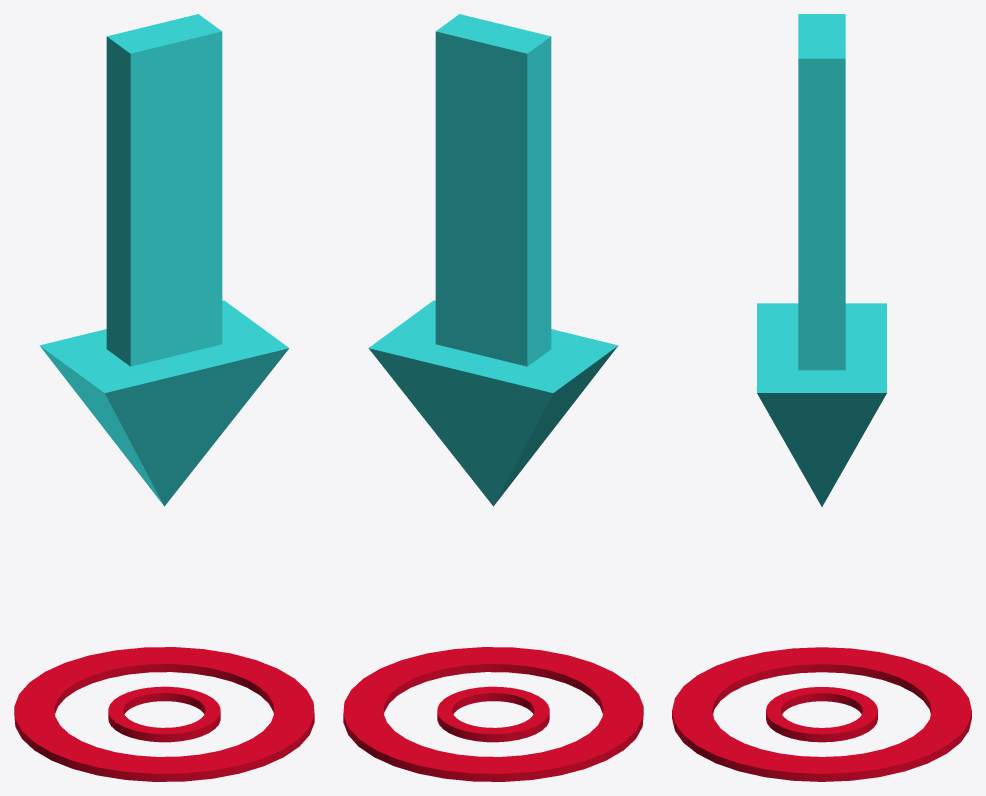
File: originSpawnMesh.fbx
3 views of the same model, side by side, from view 1: azimuth 30°, elevation 25°; view 2: azimuth 150°, elevation 25°; view 3: azimuth 270°, elevation 25° (orthographic).
Visible parts, largest first — view 1: Cube; view 2: Cube; view 3: Cube.
Part boxes in pixels (box(x1,y1,x2,y2)): Cube: box(14, 14, 314, 781); Cube: box(343, 14, 643, 781); Cube: box(672, 14, 971, 781).
Size of the model in its own units: 2 by 5.02 by 2.
